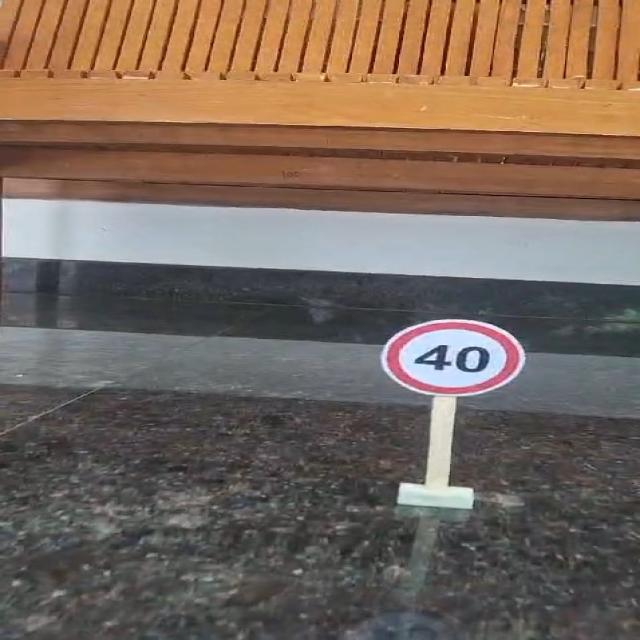Speed40: (373, 314, 531, 399)
